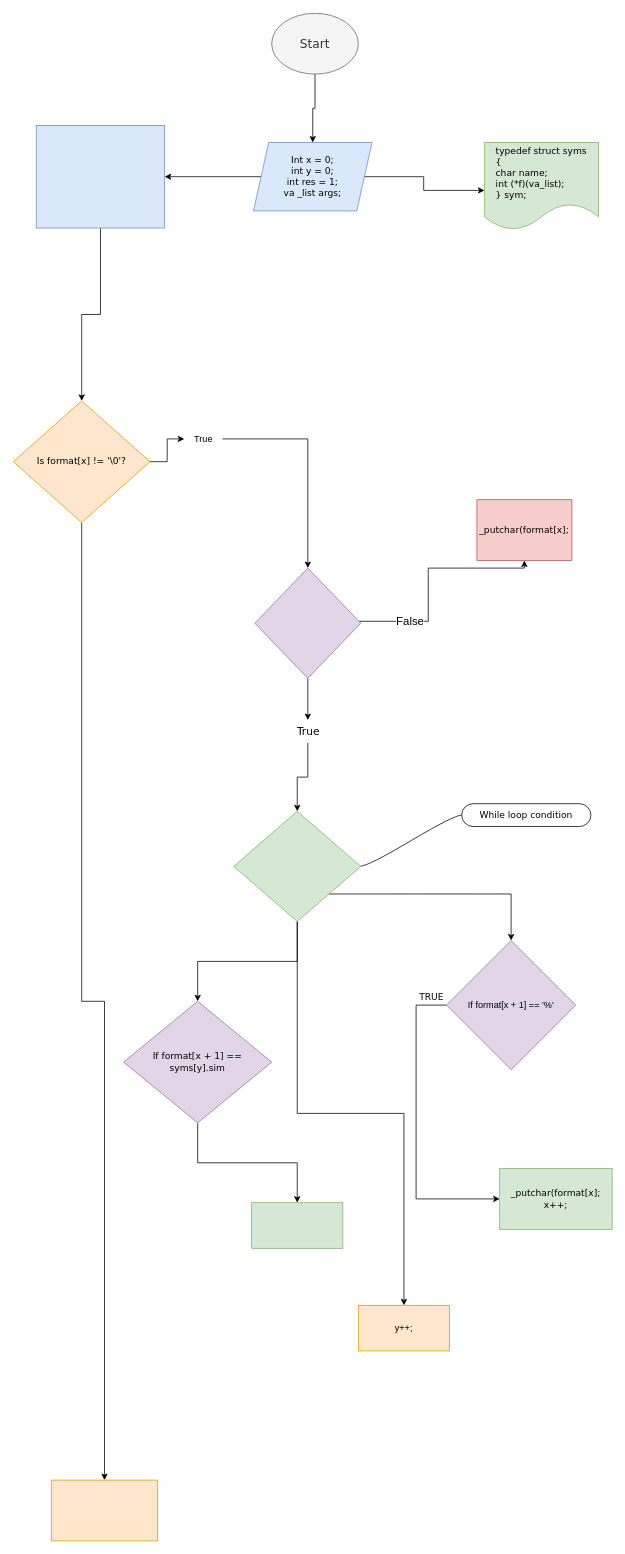
The diagram is 625 pixels wide and 1554 high, and some of its shapes have lost their labels. The shapes that lost their labels are listed below. From the top down, each one's box as (x1, y1, x2, y2) in pixels, then its label:
(35, 125, 165, 228): syms[] { {'c', sym_c}, {'s', sym_s}, {'d', NULL}, {'i', NULL}, {'\0', NULL} }
(254, 567, 361, 678): If format[x] == '%'
(233, 811, 361, 922): Is syms[y].sim != '\0'?
(251, 1202, 343, 1248): Res += syms[y].f
(51, 1479, 158, 1541): x++;
